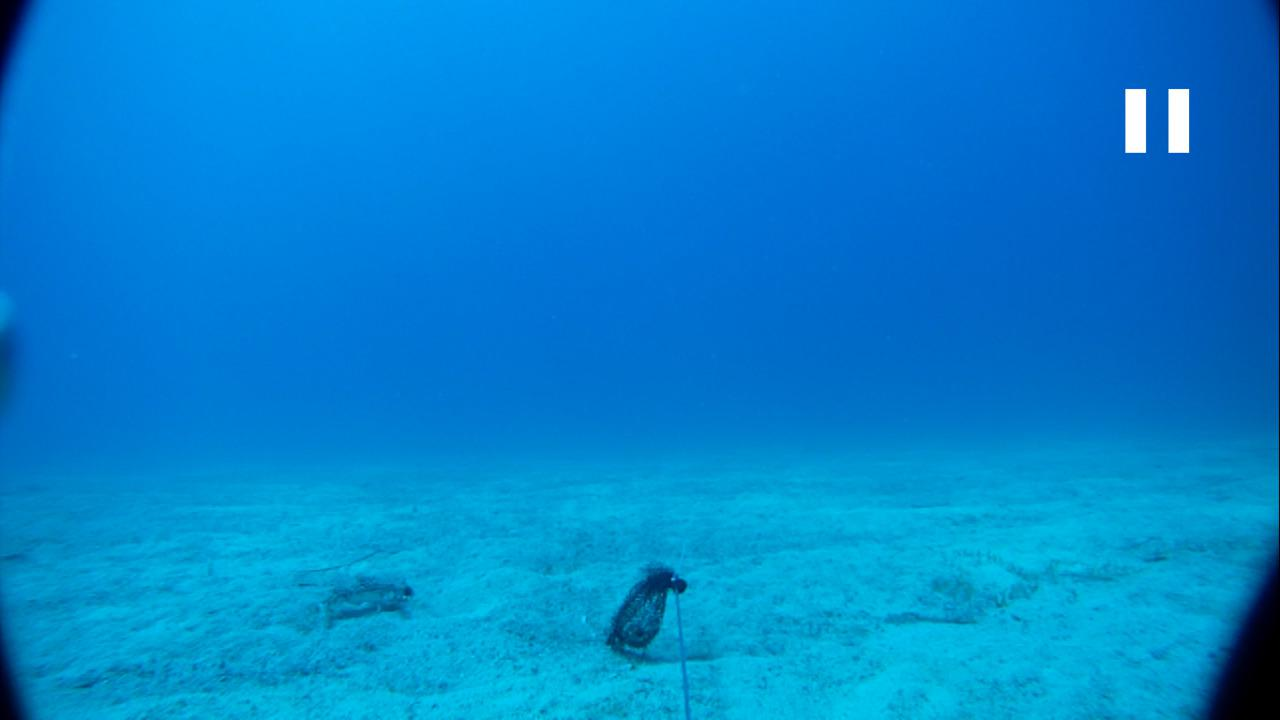dactylopterus: (303, 563, 416, 624)
